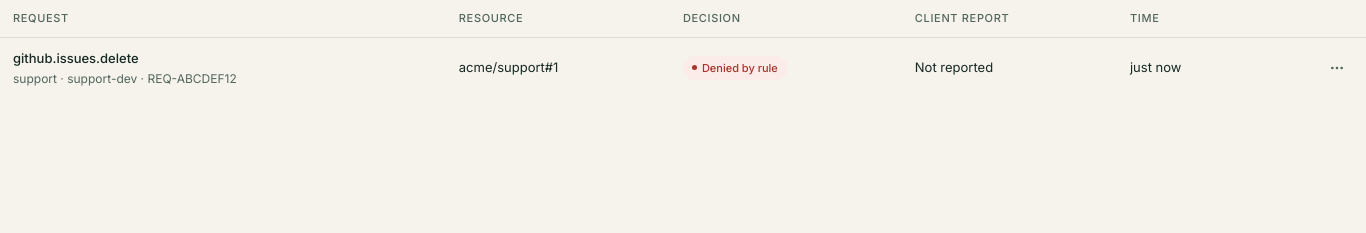
ActivityTable › each row's ⋯ menu leads on from the event, without opening it
The width and height of the screenshot is (1366, 233).
Later steps or results of the test are not shown.
Click the button named "Actions for github.issues.delete".
click(1337, 68)  # box top-left (1321, 52), bottom-right (1353, 84)
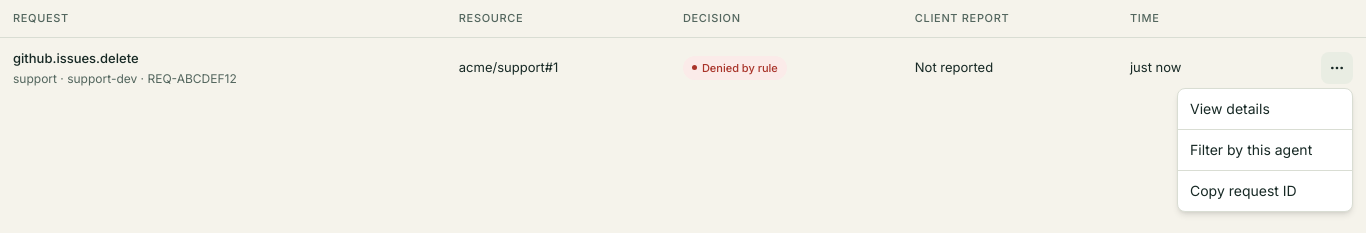
Result: the menu items read "View details", "Filter by this agent", "Copy request ID", in this order at top-left (1190, 100), bottom-right (1270, 117); top-left (1190, 141), bottom-right (1312, 158); top-left (1190, 182), bottom-right (1297, 199)
